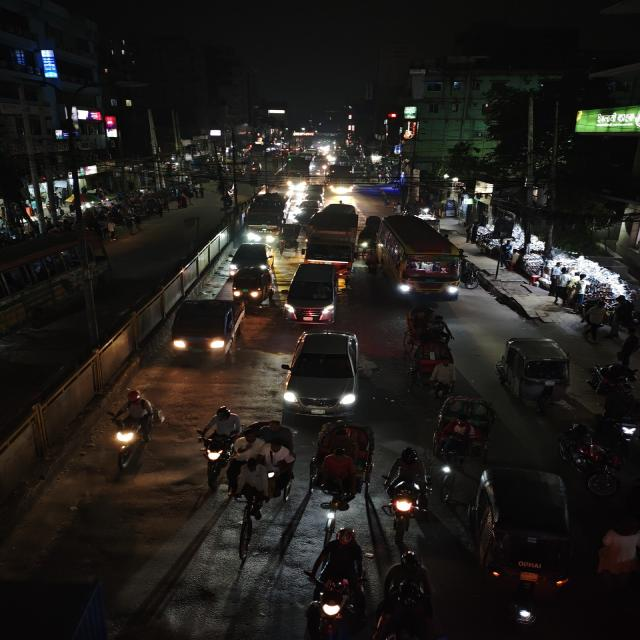bus: (0, 228, 109, 346), (376, 213, 467, 303)
car: (281, 328, 368, 417), (284, 262, 342, 326), (225, 242, 274, 276)
cng: (470, 465, 580, 594), (497, 334, 575, 412), (231, 266, 273, 304)
motorcycle: (305, 526, 367, 640), (555, 421, 624, 499), (102, 386, 159, 474), (384, 444, 432, 536), (191, 403, 242, 489), (597, 388, 640, 447), (588, 361, 639, 402)
pedestrian: (580, 299, 610, 344), (608, 295, 636, 337), (614, 328, 640, 366)
pickup_van: (166, 295, 250, 361)
rickshaw: (232, 419, 294, 574), (309, 417, 378, 528), (429, 394, 498, 474), (402, 342, 462, 404), (402, 304, 452, 344)
truck: (303, 213, 358, 273), (242, 192, 284, 245), (285, 161, 311, 192), (328, 168, 354, 196)
